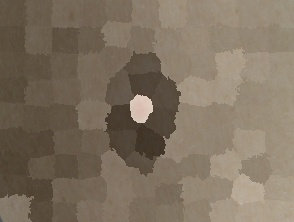vitiligo: (67, 38, 221, 196)
